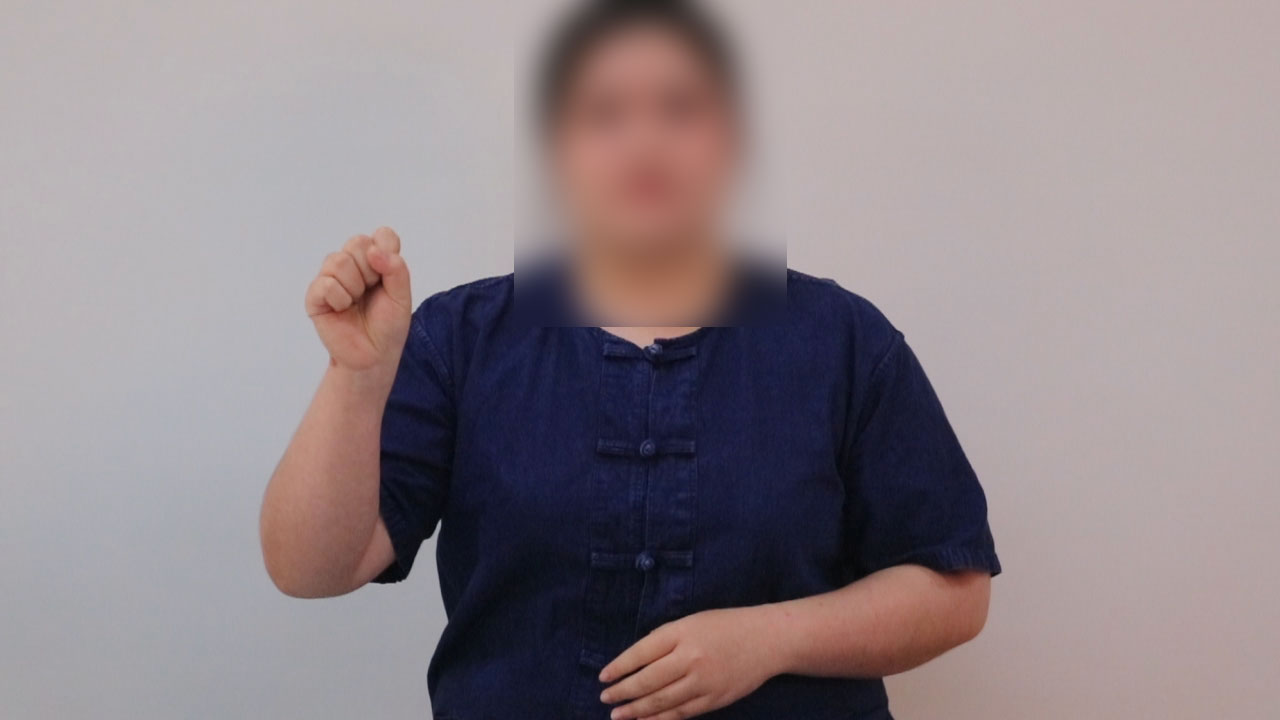sor: (295, 209, 435, 374)
